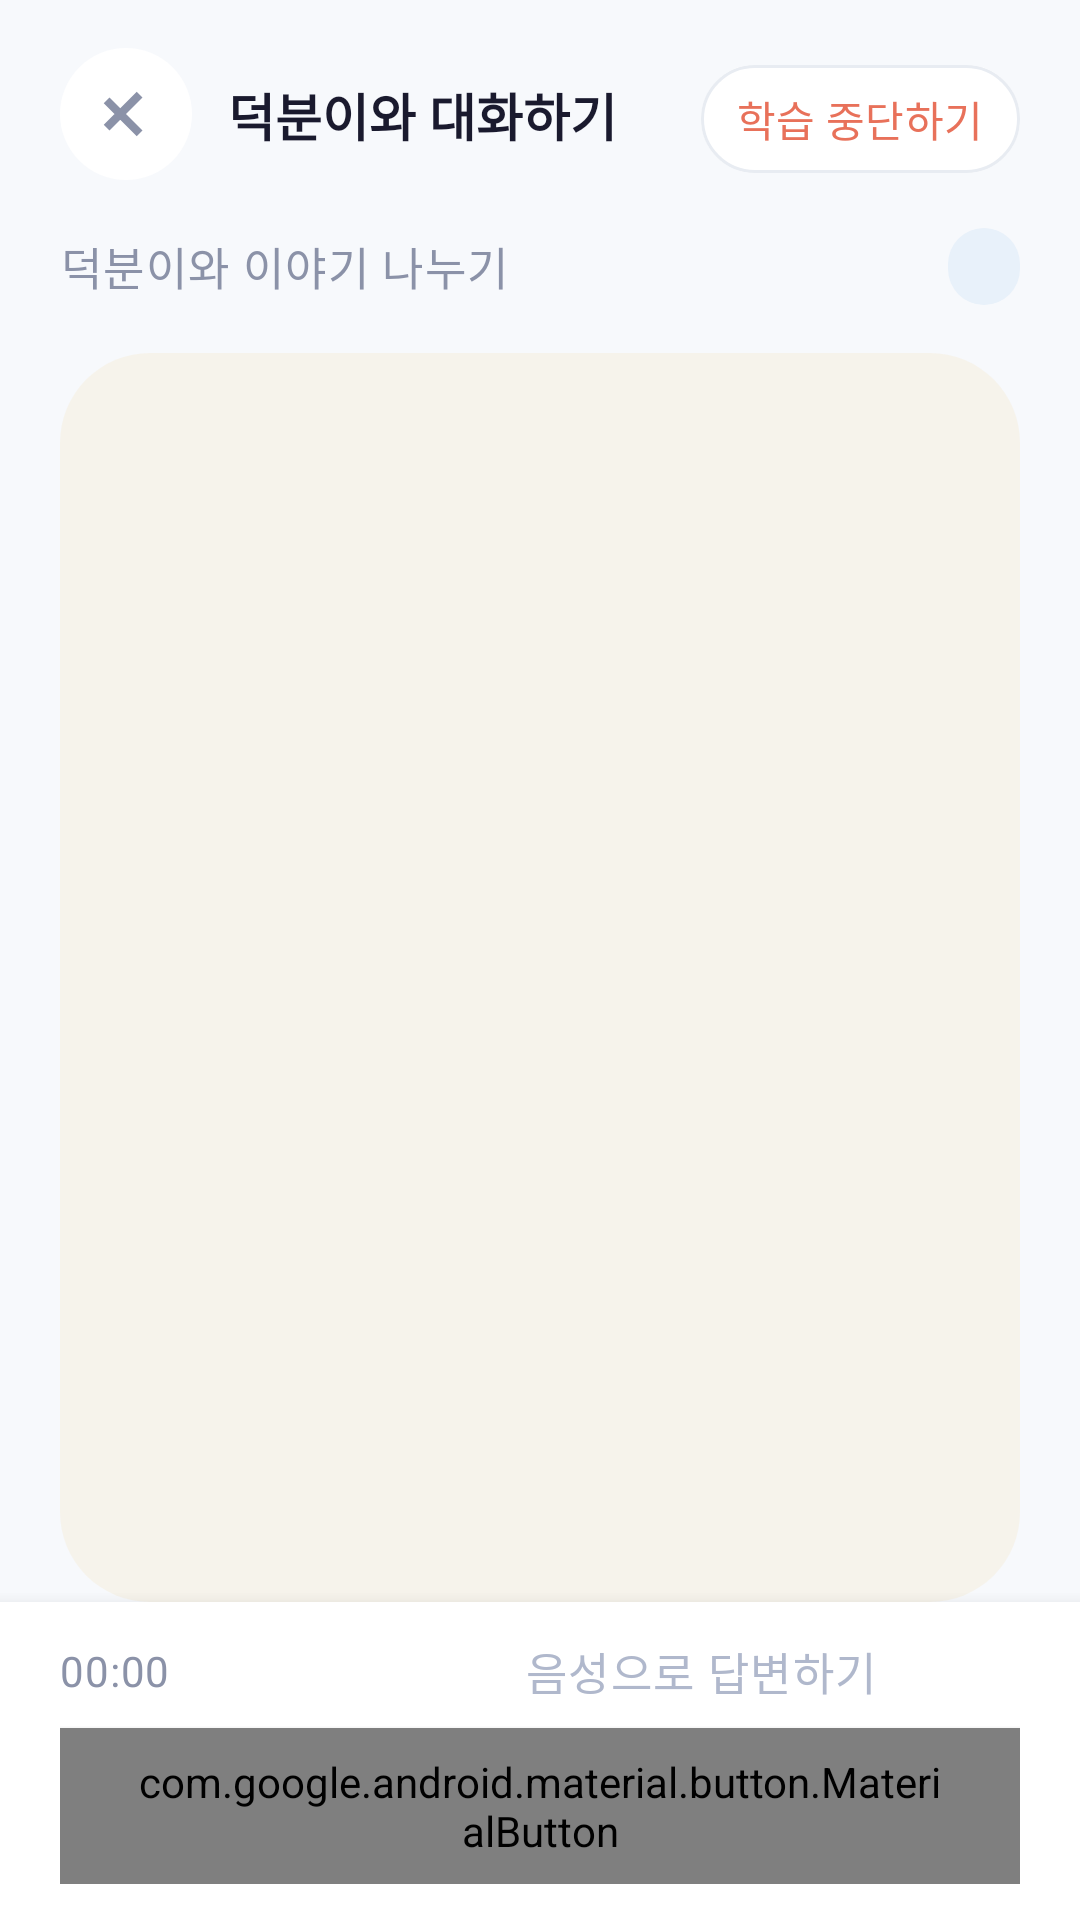

Named icons in this screenshot (1080w x 1920h) and their bounding boxes, bbox=[x1, y1, x2, y2]:
학습 목록으로 나가기: bbox=[104, 92, 143, 136]
